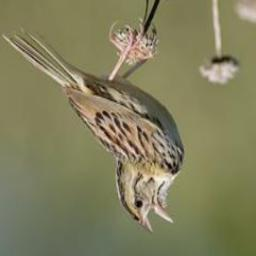Sparrow: (0, 13, 187, 239)
